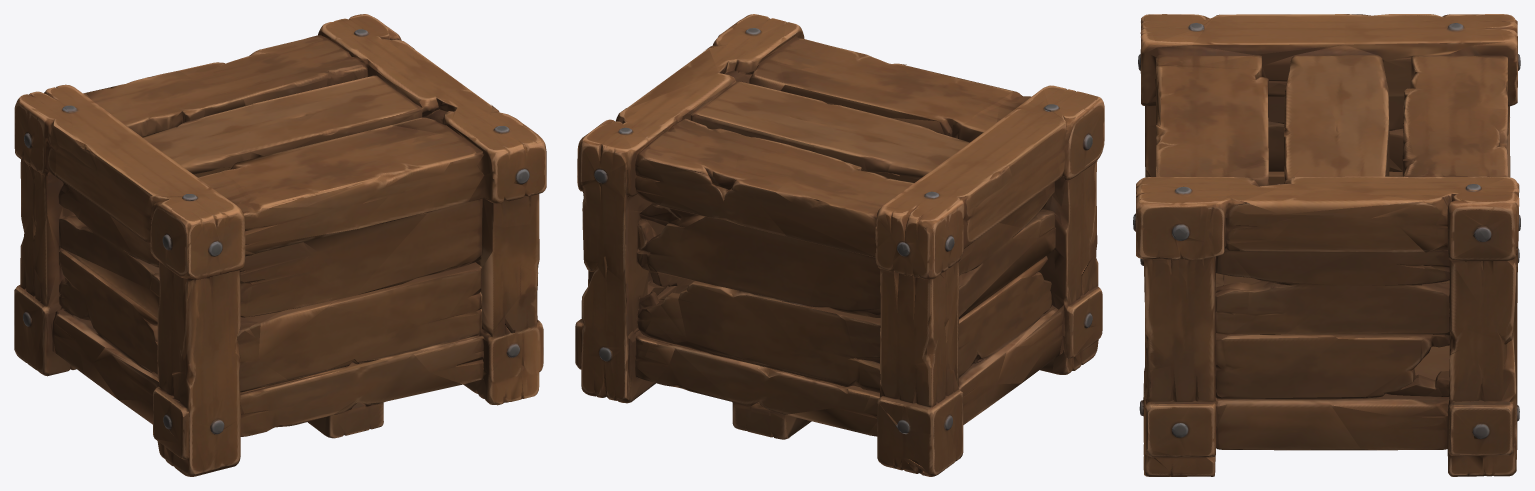
3 views of the same model, side by side, from view 1: azimuth 30°, elevation 25°; view 2: azimuth 150°, elevation 25°; view 3: azimuth 270°, elevation 25° (orthographic). The views are drawn at different scales.
Visible parts, largest first — view 1: Mesh_0; view 2: Mesh_0; view 3: Mesh_0.
Boxes of the visible parts, x1,y1,x2,y2 form: Mesh_0: [14, 14, 546, 476]; Mesh_0: [575, 14, 1104, 476]; Mesh_0: [1133, 14, 1520, 476].
Bounding box in the file's own units: 2932 × 2000 × 2485.
Materials: 1 (1 with a texture image).
